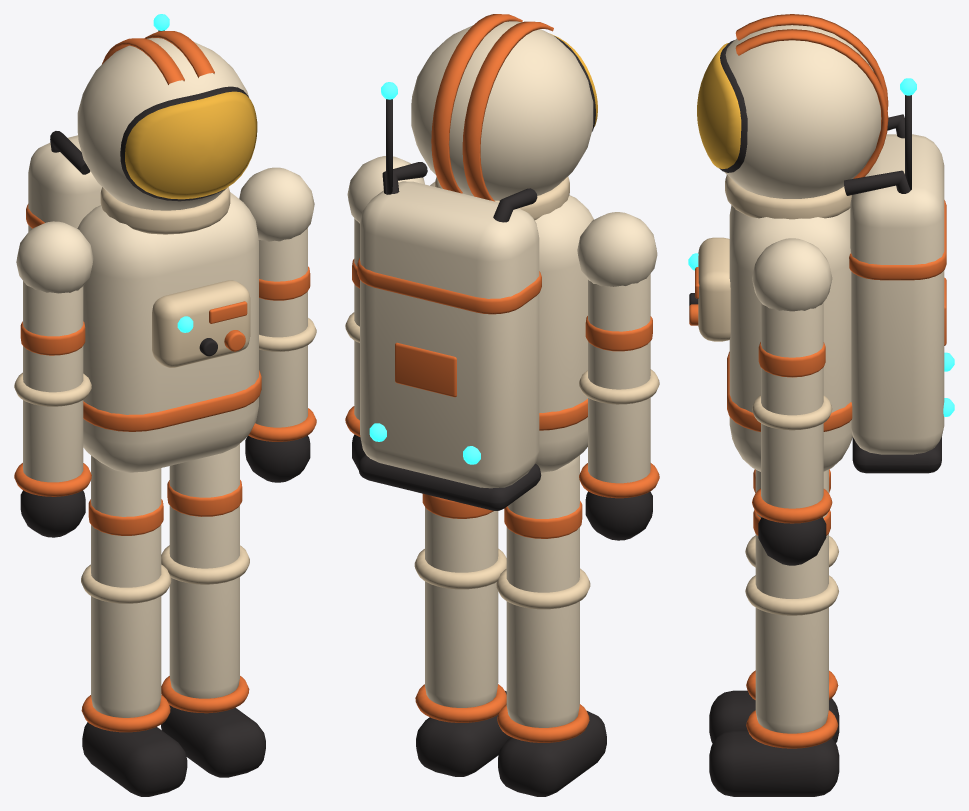
The model's file is astro-b-commander.glb.
3 views of the same model, side by side, from view 1: azimuth 30°, elevation 25°; view 2: azimuth 150°, elevation 25°; view 3: azimuth 270°, elevation 25° (orthographic). The views are drawn at different scales.
Parts seen in each view (by area): view 1: body, leg_r, leg_l, arm_r, arm_l; view 2: body, leg_r, arm_r, leg_l, arm_l; view 3: body, leg_l, arm_l, leg_r.
Boxes of the visible parts, x1,y1,x2,y2 form: body: (26,14,261,472); leg_r: (81,455,187,796); leg_l: (161,444,265,777); arm_r: (14,221,93,537); arm_l: (239,167,316,482); body: (357,14,597,510); leg_r: (496,455,606,796); arm_r: (577,212,659,540); leg_l: (414,493,510,776); arm_l: (345,156,424,469); body: (688,14,954,473); leg_l: (709,469,839,796); arm_l: (752,238,832,565); leg_r: (709,469,839,743).
Bounding box in the file's own units: 0.78 × 1.84 × 0.5949.
